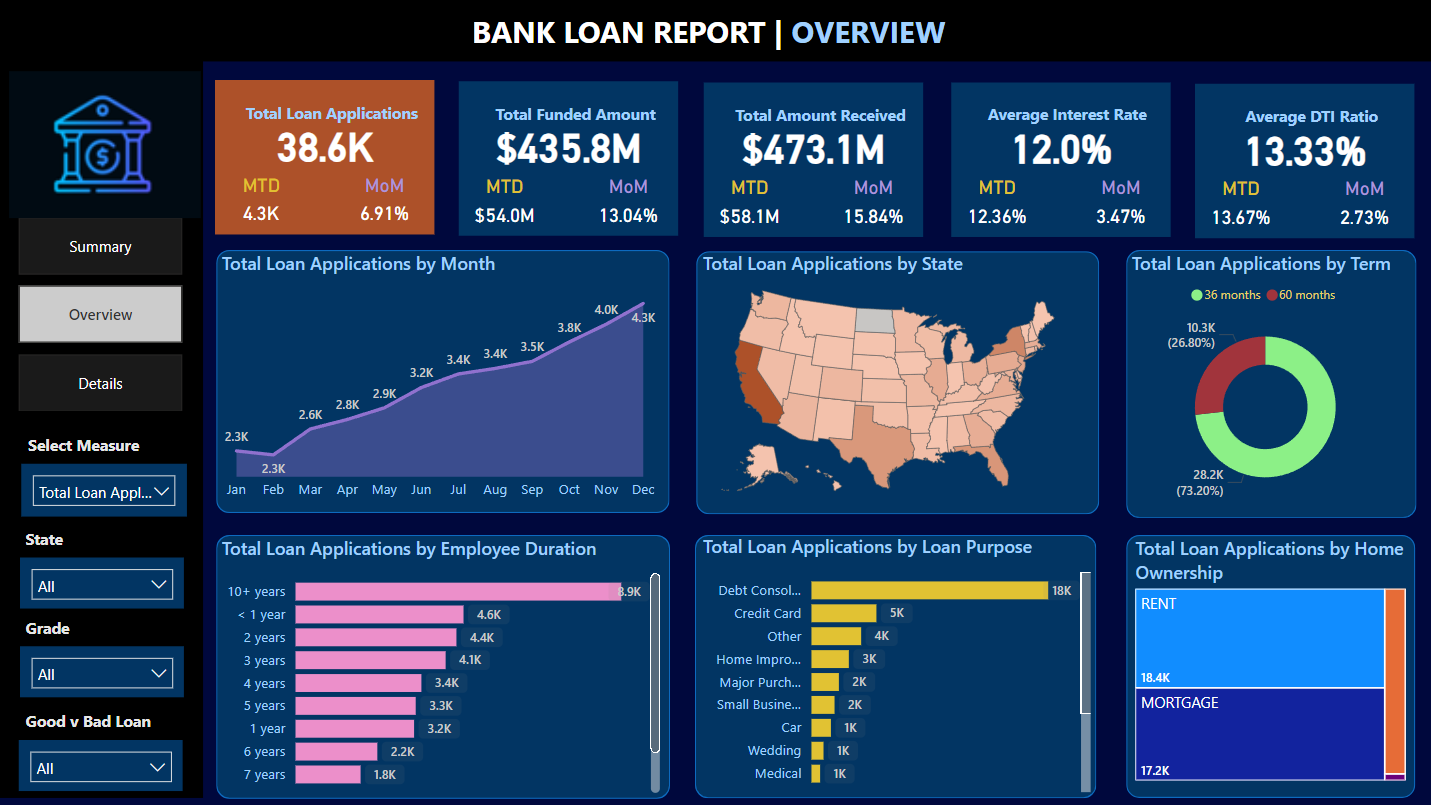

Layout of this report page (visuals, bound fields, positions):
{"tool":"powerbi","page":{"name":"Overview","canvas":[1280,720],"ordinal":1},"visuals":[{"type":"shape","box":[0,47.7,181.4,665.1],"z":0},{"type":"shape","box":[0,0,1280.3,54.9],"z":1000},{"type":"textbox","box":[416,4,448,48],"z":2000},{"type":"group","id":"g1","title":"Group 1","box":[192.1,71.5,196.5,137.3],"z":3000},{"type":"shape","box":[192.1,71.5,196,138],"z":3000,"group":"g1"},{"type":"shape","box":[409.8,72.6,196,138],"z":3000,"group":"g2"},{"type":"shape","box":[628.7,73.7,196,138],"z":3000,"group":"g3"},{"type":"shape","box":[849.8,73.7,196,138],"z":3000,"group":"g4"},{"type":"shape","box":[1067.5,74.8,196,138],"z":3000,"group":"g5"},{"type":"group","id":"g2","title":"Group 1","box":[409.8,72.6,195.4,137.3],"z":4000},{"type":"card","fields":{"Values":["financial_loan.Total Loan Applications"]},"box":[204.1,101.5,172,54],"z":4000,"group":"g1"},{"type":"card","fields":{"Values":["financial_loan.Total Funded Amount"]},"box":[421.8,102.6,172,54],"z":4000,"group":"g2"},{"type":"card","fields":{"Values":["financial_loan.Total Amount Recieved"]},"box":[640.7,103.7,172,54],"z":4000,"group":"g3"},{"type":"card","fields":{"Values":["financial_loan.Average Interest Rate"]},"box":[861.8,103.7,172,54],"z":4000,"group":"g4"},{"type":"card","fields":{"Values":["financial_loan.Average DTI Ratio"]},"box":[1079.5,104.8,172,54],"z":4000,"group":"g5"},{"type":"group","id":"g3","title":"Group 1","box":[628.7,73.7,196.5,136.2],"z":5000},{"type":"textbox","box":[204.1,85.5,184,30],"z":5000,"group":"g1"},{"type":"textbox","box":[421.8,86.6,184,30],"z":5000,"group":"g2"},{"type":"textbox","box":[861.1,87.5,184.9,30.2],"z":5000,"group":"g4"},{"type":"textbox","box":[640.7,87.7,184,30],"z":5000,"group":"g3"},{"type":"textbox","box":[1079.5,88.8,184,30],"z":5000,"group":"g5"},{"type":"group","id":"g4","title":"Group 1","box":[849.8,73.7,195.4,137.3],"z":6000},{"type":"card","title":"MTD","fields":{"Values":["financial_loan.MTD Loan Applications"]},"box":[204.1,155.5,58,54],"z":6000,"group":"g1"},{"type":"card","title":"MTD","fields":{"Values":["financial_loan.MTD Funded Amount"]},"box":[409.8,156.6,82,54],"z":6000,"group":"g2"},{"type":"card","title":"MTD","fields":{"Values":["financial_loan.MTD Amount Recieved"]},"box":[628.7,157.7,82,54],"z":6000,"group":"g3"},{"type":"card","title":"MTD","fields":{"Values":["financial_loan.MTD Average Interest Rate"]},"box":[849.8,157.7,82,54],"z":6000,"group":"g4"},{"type":"card","title":"MTD","fields":{"Values":["financial_loan.MTD Average DTI Ratio"]},"box":[1067.5,158.8,82,54],"z":6000,"group":"g5"},{"type":"group","id":"g5","title":"Group 1","box":[1067.5,74.8,196.5,136.2],"z":7000},{"type":"card","title":"MoM","fields":{"Values":["financial_loan.MoM Loan Applicstion"]},"box":[312.1,155.5,64,54],"z":8000,"group":"g1"},{"type":"card","title":"MoM","fields":{"Values":["financial_loan.MoM Funded Amount"]},"box":[529.8,156.6,64,54],"z":8000,"group":"g2"},{"type":"card","title":"MoM","fields":{"Values":["financial_loan.MoM Amount Recieved"]},"box":[748.7,157.7,64,54],"z":8000,"group":"g3"},{"type":"card","title":"MoM","fields":{"Values":["financial_loan.MoM Average Interest Rate"]},"box":[969.8,157.7,64,54],"z":8000,"group":"g4"},{"type":"card","title":"MoM","fields":{"Values":["financial_loan.MoM Average DTI Ratio"]},"box":[1187.5,158.8,64,54],"z":8000,"group":"g5"},{"type":"shape","box":[192.8,223.6,405,235],"z":8000},{"type":"textbox","box":[17.7,466.7,72,31.2],"z":9000},{"type":"slicer","fields":{"Values":["financial_loan.address_state"]},"box":[17.7,497.9,146.5,45.6],"z":10000},{"type":"textbox","box":[18.1,546.2,72,31.2],"z":11000},{"type":"slicer","fields":{"Values":["financial_loan.grade"]},"box":[18.1,577.4,146.5,45.6],"z":12000},{"type":"textbox","box":[17.7,630.2,134.9,31.4],"z":13000},{"type":"slicer","fields":{"Values":["financial_loan.Good v Bad Loans"]},"box":[17.2,661.2,146.5,45.6],"z":14000},{"type":"areaChart","fields":{"Y":["financial_loan.Total Loan Applications"],"Category":["Date Table.Month"]},"box":[193.3,223.3,399.8,231.7],"z":15000},{"type":"slicer","fields":{"Values":["Select Measure.Select Measure"]},"box":[19.5,414.7,147.7,46.8],"z":16000},{"type":"textbox","box":[20.7,383.4,127.3,31.2],"z":17000},{"type":"shape","box":[622,224.5,360,235],"z":18000},{"type":"shapeMap","fields":{"Value":["financial_loan.Total Loan Applications"],"Category":["financial_loan.address_state"]},"box":[623.3,223.3,340.7,230.2],"z":19000},{"type":"shape","box":[1005.8,223.3,259.3,239.5],"z":20000},{"type":"donutChart","fields":{"Y":["financial_loan.Total Loan Applications"],"Category":["financial_loan.term"]},"box":[1005.8,223.3,248.8,231.4],"z":21000},{"type":"shape","box":[192.8,478.1,404.8,242.9],"z":22000},{"type":"barChart","fields":{"Y":["financial_loan.Total Loan Applications"],"Category":["financial_loan.emp_length"]},"box":[192.8,478.1,401,242.9],"z":23000},{"type":"shape","box":[620.7,478.1,358.6,235.2],"z":24000},{"type":"barChart","fields":{"Y":["financial_loan.Total Loan Applications"],"Category":["financial_loan.purpose"]},"box":[623.3,476.7,355.8,236],"z":25000},{"type":"shape","box":[1005.8,477.9,258.1,234.9],"z":26000},{"type":"treemap","fields":{"Values":["financial_loan.Total Loan Applications"],"Group":["financial_loan.home_ownership"]},"box":[1009.3,477.9,251.2,224.4],"z":27000},{"type":"pageNavigator","box":[16.7,194.3,146.3,173.1],"z":28000},{"type":"image","box":[3.3,21.2,180.9,215.5],"z":29000}]}

Visuals, with their boxes in screenshot pixels (x1, y1, x2, y2), scaled from the page's 1280x720 canvas onto the 1431x805 screenshot:
shape: region(0, 53, 203, 797)
shape: region(0, 0, 1430, 61)
textbox: region(465, 4, 966, 58)
"Group 1" group: region(215, 80, 434, 233)
shape: region(215, 80, 434, 234)
shape: region(458, 81, 677, 235)
shape: region(703, 82, 922, 237)
shape: region(950, 82, 1169, 237)
shape: region(1193, 84, 1413, 238)
"Group 1" group: region(458, 81, 677, 235)
card - financial_loan.Total Loan Applications: region(228, 113, 420, 174)
card - financial_loan.Total Funded Amount: region(472, 115, 664, 175)
card - financial_loan.Total Amount Recieved: region(716, 116, 909, 176)
card - financial_loan.Average Interest Rate: region(963, 116, 1156, 176)
card - financial_loan.Average DTI Ratio: region(1207, 117, 1399, 178)
"Group 1" group: region(703, 82, 923, 235)
textbox: region(228, 96, 434, 129)
textbox: region(472, 97, 677, 130)
textbox: region(963, 98, 1169, 132)
textbox: region(716, 98, 922, 132)
textbox: region(1207, 99, 1413, 133)
"Group 1" group: region(950, 82, 1169, 236)
"MTD" card: region(228, 174, 293, 234)
"MTD" card: region(458, 175, 550, 235)
"MTD" card: region(703, 176, 795, 237)
"MTD" card: region(950, 176, 1042, 237)
"MTD" card: region(1193, 178, 1285, 238)
"Group 1" group: region(1193, 84, 1413, 236)
"MoM" card: region(349, 174, 420, 234)
"MoM" card: region(592, 175, 664, 235)
"MoM" card: region(837, 176, 909, 237)
"MoM" card: region(1084, 176, 1156, 237)
"MoM" card: region(1328, 178, 1399, 238)
shape: region(216, 250, 668, 513)
textbox: region(20, 522, 100, 557)
slicer - financial_loan.address_state: region(20, 557, 184, 608)
textbox: region(20, 611, 101, 646)
slicer - financial_loan.grade: region(20, 646, 184, 697)
textbox: region(20, 705, 171, 740)
slicer - financial_loan.Good v Bad Loans: region(19, 739, 183, 790)
areaChart - financial_loan.Total Loan Applications x Date Table.Month: region(216, 250, 663, 509)
slicer - Select Measure.Select Measure: region(22, 464, 187, 516)
textbox: region(23, 429, 165, 464)
shape: region(695, 251, 1098, 514)
shapeMap - financial_loan.Total Loan Applications x financial_loan.address_state: region(697, 250, 1078, 507)
shape: region(1124, 250, 1414, 517)
donutChart - financial_loan.Total Loan Applications x financial_loan.term: region(1124, 250, 1403, 508)
shape: region(216, 535, 668, 804)
barChart - financial_loan.Total Loan Applications x financial_loan.emp_length: region(216, 535, 664, 804)
shape: region(694, 535, 1095, 798)
barChart - financial_loan.Total Loan Applications x financial_loan.purpose: region(697, 533, 1095, 797)
shape: region(1124, 534, 1413, 797)
treemap - financial_loan.Total Loan Applications x financial_loan.home_ownership: region(1128, 534, 1409, 785)
pageNavigator: region(19, 217, 182, 411)
image: region(4, 24, 206, 265)
